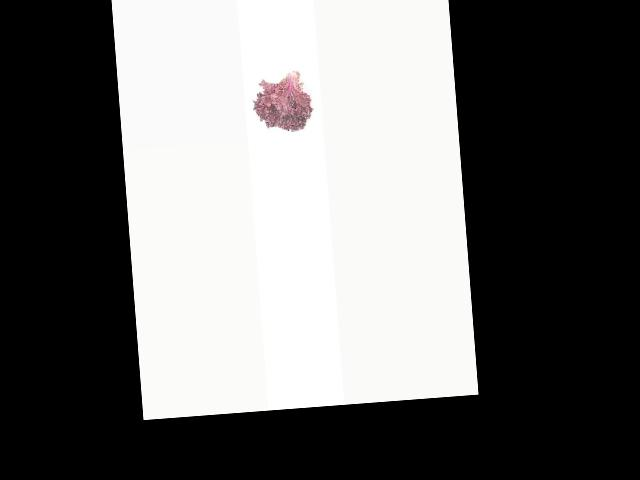lettuce: (248, 63, 312, 138)
